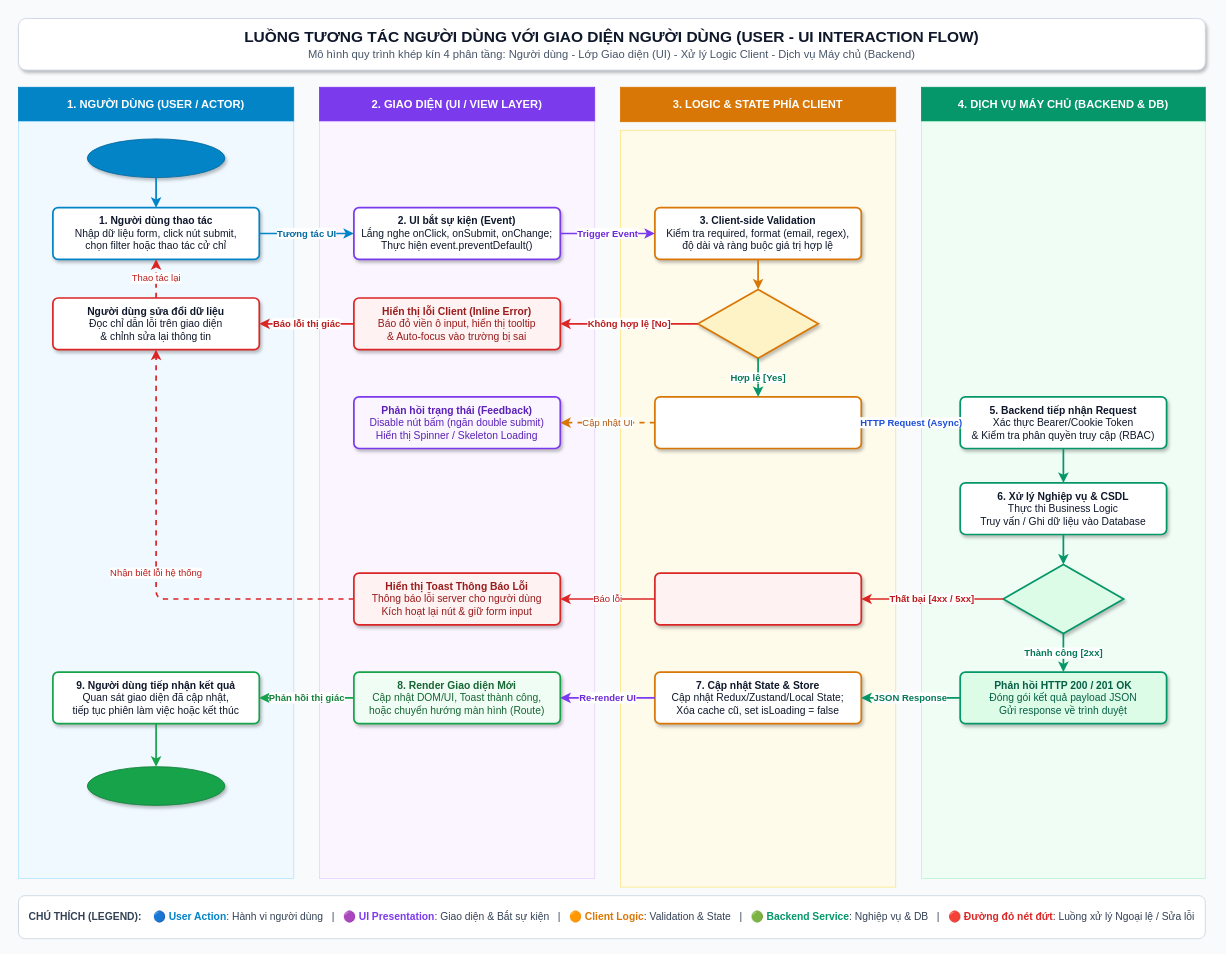
The diagram is 1226 pixels wide and 954 high, and some of its shapes have lost their labels. Here are the shapes that lost their labels. From the top down, the centre of each, then its label:
the point at 156,159: Bắt đầu
the point at 758,325: Dữ liệu hợp lệ?
the point at 758,423: 4. Cập nhật trạng thái Chờ Set isLoading = true Chuẩn bị HTTP Request Payload
the point at 758,599: Bắt lỗi Server (Catch Error) Xử lý mã lỗi HTTP 4xx / 5xx Set isLoading = false
the point at 1063,600: Xử lý thành công?
the point at 156,786: Kết thúc
